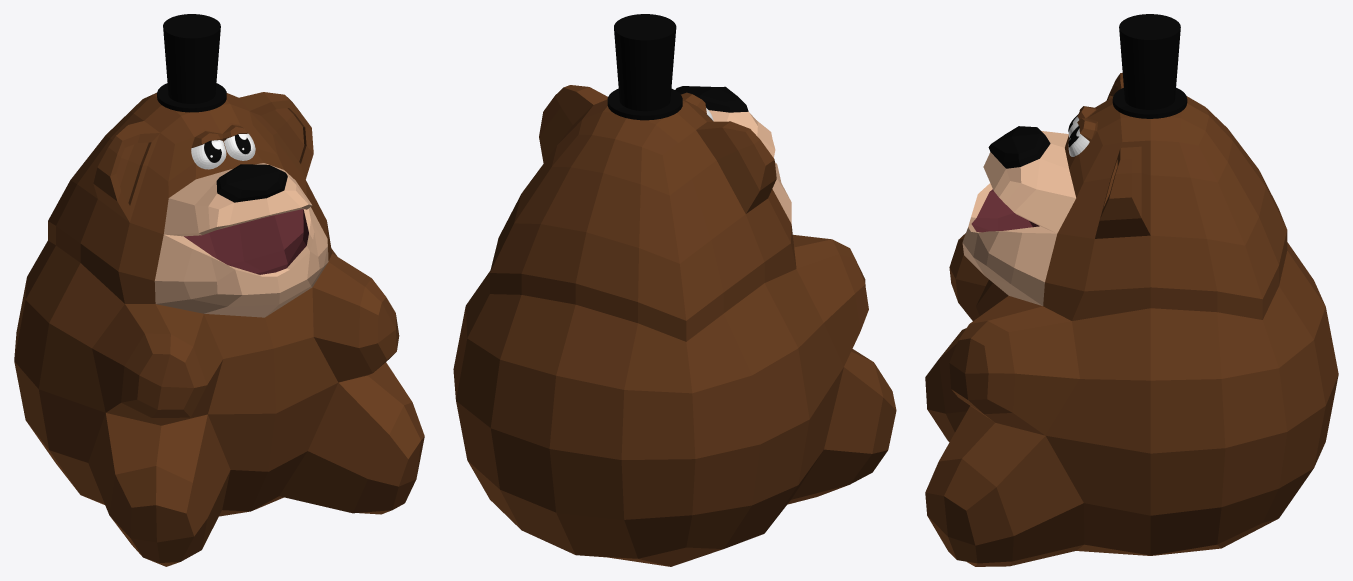
File: xolero.fbx
3 renders of one model, left to right at view 1: azimuth 30°, elevation 25°; view 2: azimuth 150°, elevation 25°; view 3: azimuth 270°, elevation 25°, orthographic. The views are drawn at different scales.
Parts seen in each view (by area): view 1: шляпа; view 2: шляпа; view 3: шляпа.
Part boxes in pixels (box(x1,y1,x2,y2)): шляпа: box(14, 14, 424, 566); шляпа: box(453, 14, 896, 566); шляпа: box(925, 14, 1338, 566).
Bounding box in the file's own units: 168 × 246 × 185.
